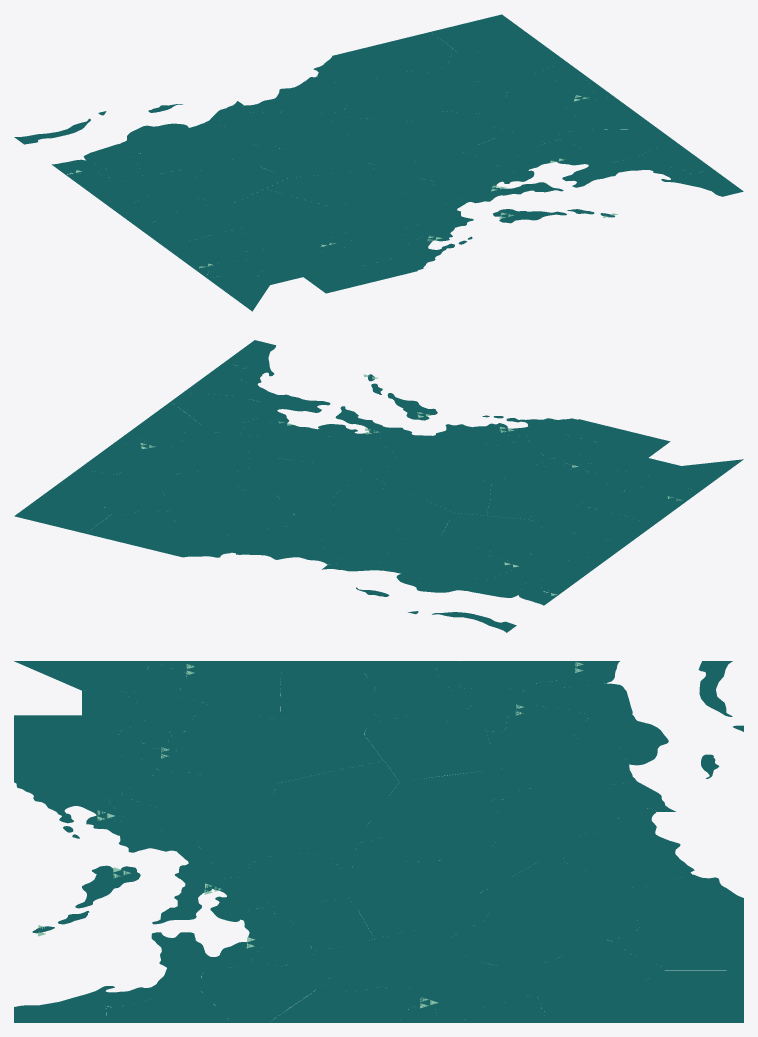
3 views of the same model, one above another, from view 1: azimuth 30°, elevation 25°; view 2: azimuth 150°, elevation 25°; view 3: azimuth 270°, elevation 25° (orthographic). The views are drawn at different scales.
Visible parts, largest first — view 1: Curve.014, Curve.032, Curve.034, Curve.012, Curve.038, Curve.035, Curve.010, Curve.036, Curve.049, Curve.025, Curve.009, Curve.037 (+30 smaller); view 2: Curve.014, Curve.032, Curve.034, Curve.012, Curve.038, Curve.035, Curve.010, Curve.036, Curve.049, Curve.025, Curve.009, Curve.037 (+30 smaller); view 3: Curve.014, Curve.032, Curve.034, Curve.012, Curve.038, Curve.035, Curve.010, Curve.036, Curve.049, Curve.025, Curve.009, Curve.037 (+30 smaller).
Part boxes in pixels (x1,y1,x2,y2): Curve.014: [344, 71, 507, 121]; Curve.032: [238, 188, 345, 251]; Curve.034: [322, 111, 510, 152]; Curve.012: [478, 80, 597, 142]; Curve.038: [330, 183, 476, 243]; Curve.035: [237, 134, 398, 177]; Curve.010: [313, 32, 455, 83]; Curve.036: [266, 160, 432, 206]; Curve.049: [133, 120, 264, 175]; Curve.025: [209, 101, 353, 149]; Curve.009: [431, 14, 565, 64]; Curve.037: [369, 141, 499, 186]; Curve.014: [160, 470, 301, 535]; Curve.032: [487, 464, 624, 519]; Curve.034: [225, 454, 346, 525]; Curve.012: [107, 425, 253, 475]; Curve.038: [377, 438, 546, 482]; Curve.035: [331, 485, 453, 541]; Curve.010: [86, 510, 234, 557]; Curve.036: [350, 458, 491, 515]; Curve.049: [375, 537, 521, 579]; Curve.025: [284, 515, 402, 571]; Curve.009: [14, 469, 111, 533]; Curve.037: [306, 439, 395, 490]; Curve.014: [443, 859, 645, 968]; Curve.032: [168, 703, 383, 783]; Curve.034: [349, 838, 543, 940]; Curve.012: [313, 928, 499, 1020]; Curve.038: [120, 770, 277, 878]; Curve.035: [362, 768, 514, 861]; Curve.010: [611, 874, 743, 970]; Curve.036: [263, 761, 399, 870]; Curve.049: [486, 702, 636, 792]; Curve.025: [486, 781, 675, 868]; Curve.009: [544, 970, 743, 1022]; Curve.037: [230, 837, 403, 906].
Size of the model in its own units: 719 by 9.98e-05 by 613.
